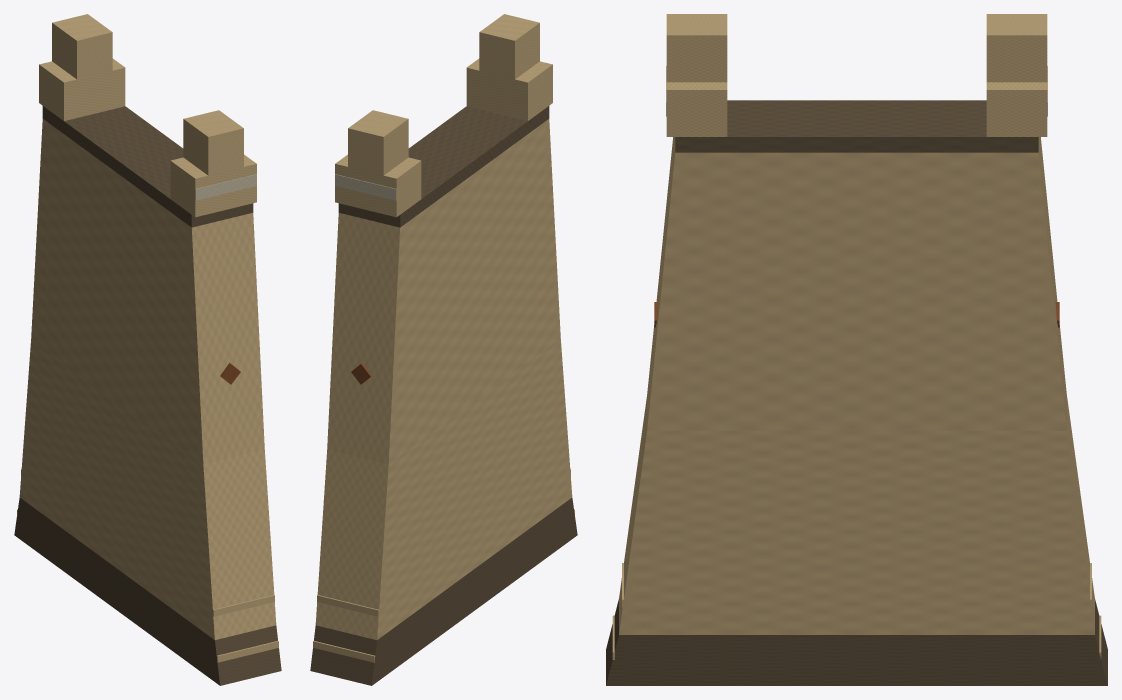
File: Berber_Wall_Age4_straight_1m.fbx
The picture shows the model from 3 angles, left to right: view 1: azimuth 30°, elevation 25°; view 2: azimuth 150°, elevation 25°; view 3: azimuth 270°, elevation 25°; orthographic projection. The views are drawn at different scales.
Parts seen in each view (by area): view 1: straight_1m_rammed_curtain_upper, straight_1m_rammed_curtain_lower, straight_1m_battered_stone_foot, straight_1m_walk_deck, straight_1m_parapet.001, straight_1m_merlon, straight_1m_merlon.001, straight_1m_parapet, straight_1m_owner_painted_band, straight_1m_lime_bond_course, straight_1m_lime_bond_course.002; view 2: straight_1m_rammed_curtain_upper, straight_1m_rammed_curtain_lower, straight_1m_battered_stone_foot, straight_1m_walk_deck, straight_1m_parapet, straight_1m_merlon, straight_1m_parapet.001, straight_1m_merlon.001, straight_1m_merlon_lime_cap.001, straight_1m_owner_painted_band.001, straight_1m_lime_bond_course.001, straight_1m_lime_bond_course.003; view 3: straight_1m_rammed_curtain_upper, straight_1m_rammed_curtain_lower, straight_1m_battered_stone_foot, straight_1m_walk_deck, straight_1m_merlon.001, straight_1m_merlon, straight_1m_parapet, straight_1m_parapet.001.
Part boxes in pixels (x1,y1,x2,y2): straight_1m_rammed_curtain_upper: (31,119,264,464); straight_1m_rammed_curtain_lower: (19,338,276,639); straight_1m_battered_stone_foot: (14,498,281,685); straight_1m_walk_deck: (42,106,253,227); straight_1m_parapet.001: (39,58,125,120); straight_1m_merlon: (183,110,243,175); straight_1m_merlon.001: (52,14,112,79); straight_1m_parapet: (170,154,256,217); straight_1m_owner_painted_band: (195,174,256,200); straight_1m_lime_bond_course: (216,641,278,662); straight_1m_lime_bond_course.002: (212,595,274,616); straight_1m_rammed_curtain_upper: (327,119,560,464); straight_1m_rammed_curtain_lower: (315,338,572,639); straight_1m_battered_stone_foot: (310,498,577,685); straight_1m_walk_deck: (338,106,549,227); straight_1m_parapet: (466,58,552,120); straight_1m_merlon: (479,14,539,79); straight_1m_parapet.001: (335,154,421,217); straight_1m_merlon.001: (348,110,408,175); straight_1m_merlon_lime_cap.001: (348,110,407,139); straight_1m_owner_painted_band.001: (335,174,396,200); straight_1m_lime_bond_course.001: (313,641,375,662); straight_1m_lime_bond_course.003: (317,595,378,616); straight_1m_rammed_curtain_upper: (647,137,1066,430); straight_1m_rammed_curtain_lower: (619,397,1094,634); straight_1m_battered_stone_foot: (606,599,1107,685); straight_1m_walk_deck: (675,100,1038,152); straight_1m_merlon.001: (986,14,1047,82); straight_1m_merlon: (666,14,727,82); straight_1m_parapet: (666,82,727,136); straight_1m_parapet.001: (986,82,1047,136).
Bounding box in the file's own units: 100 × 820 × 580.
Materials: 4 (4 with a texture image).
